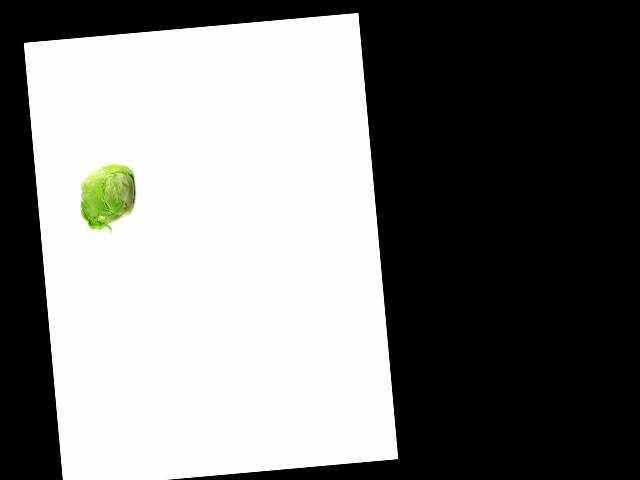lettuce: (74, 159, 140, 228)
